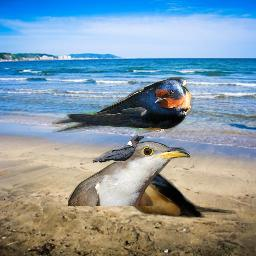Crow: (92, 135, 144, 163)
Cuckoo: (68, 141, 190, 206)
Swallow: (52, 77, 193, 133), (115, 157, 237, 218)
